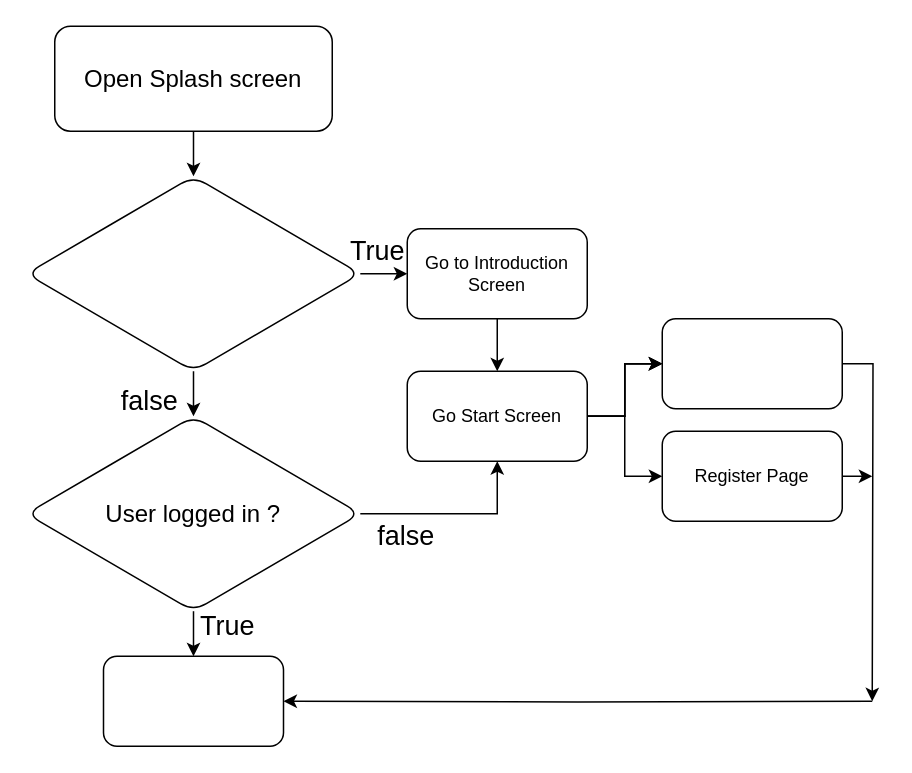
The diagram is 912 pixels wide and 773 high, and some of its shapes have lost their labels. Each missing label, with the centre of its shape:
"First Time user open the application ?" belongs at point 192,273.
"Go To Home Page" belongs at point 193,700.
"Login Page" belongs at point 751,363.
